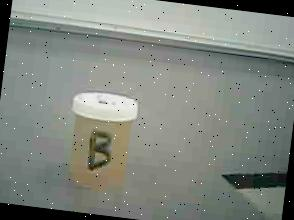Bottle B: (52, 81, 152, 204)
